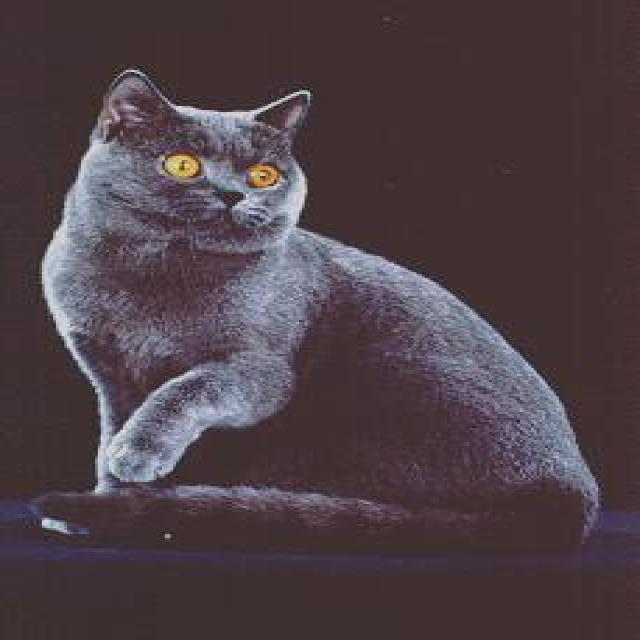British_Shorthair: (75, 66, 333, 265)
